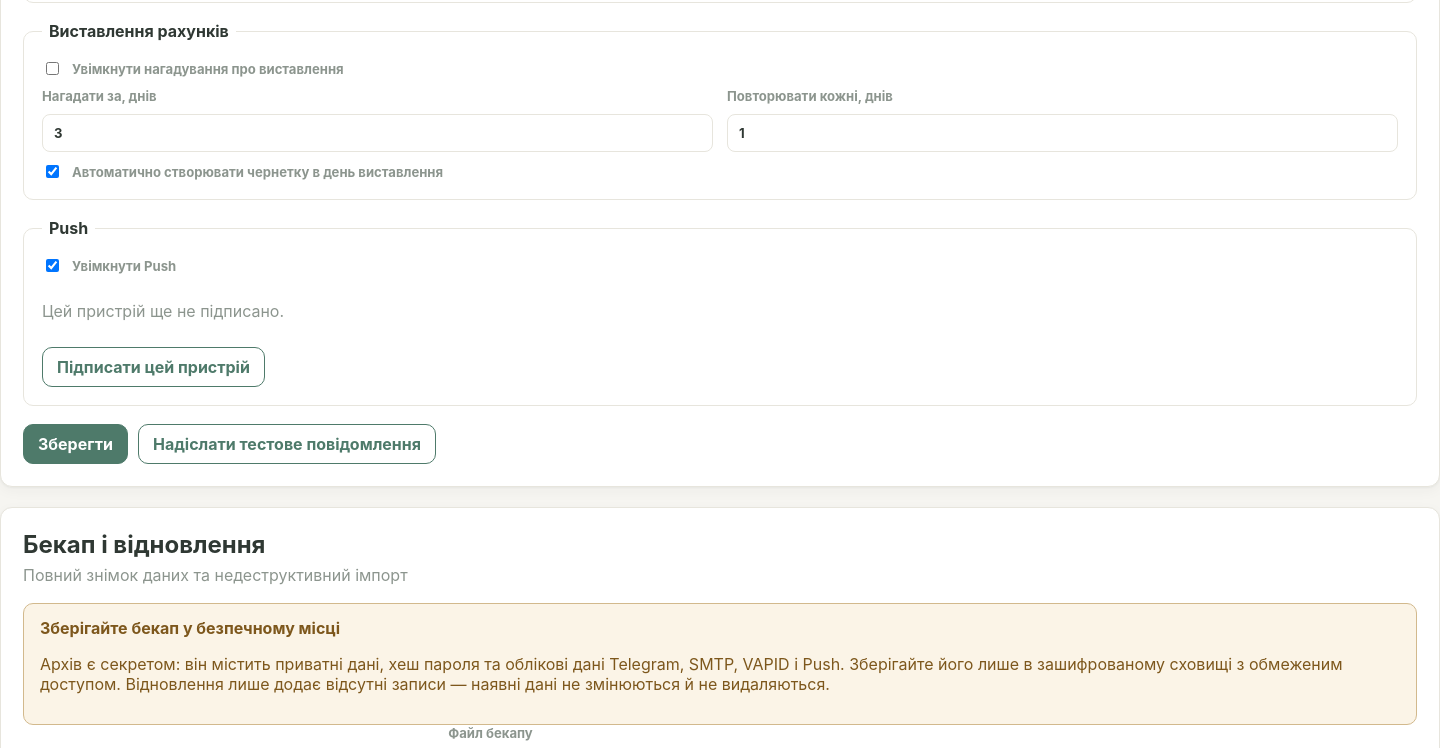
Settings › subscribes and unsubscribes this device from the Push controls
(page scrolled)
Step 1. Click the button "Підписати цей пристрій" → (153, 367), box [42,347,265,387]
(page scrolled)
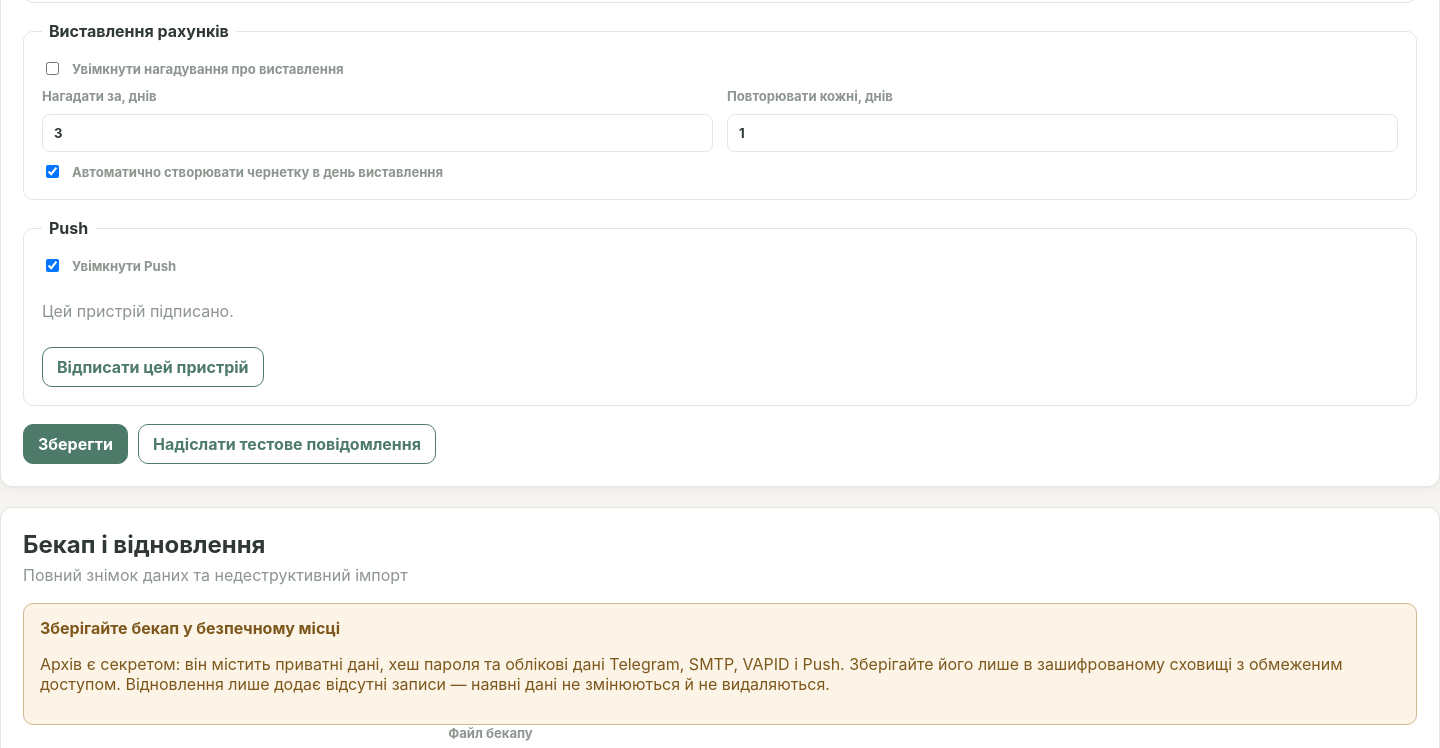
Step 2. Click the button "Відписати цей пристрій" → (153, 367), box [42,347,264,387]
(page scrolled)
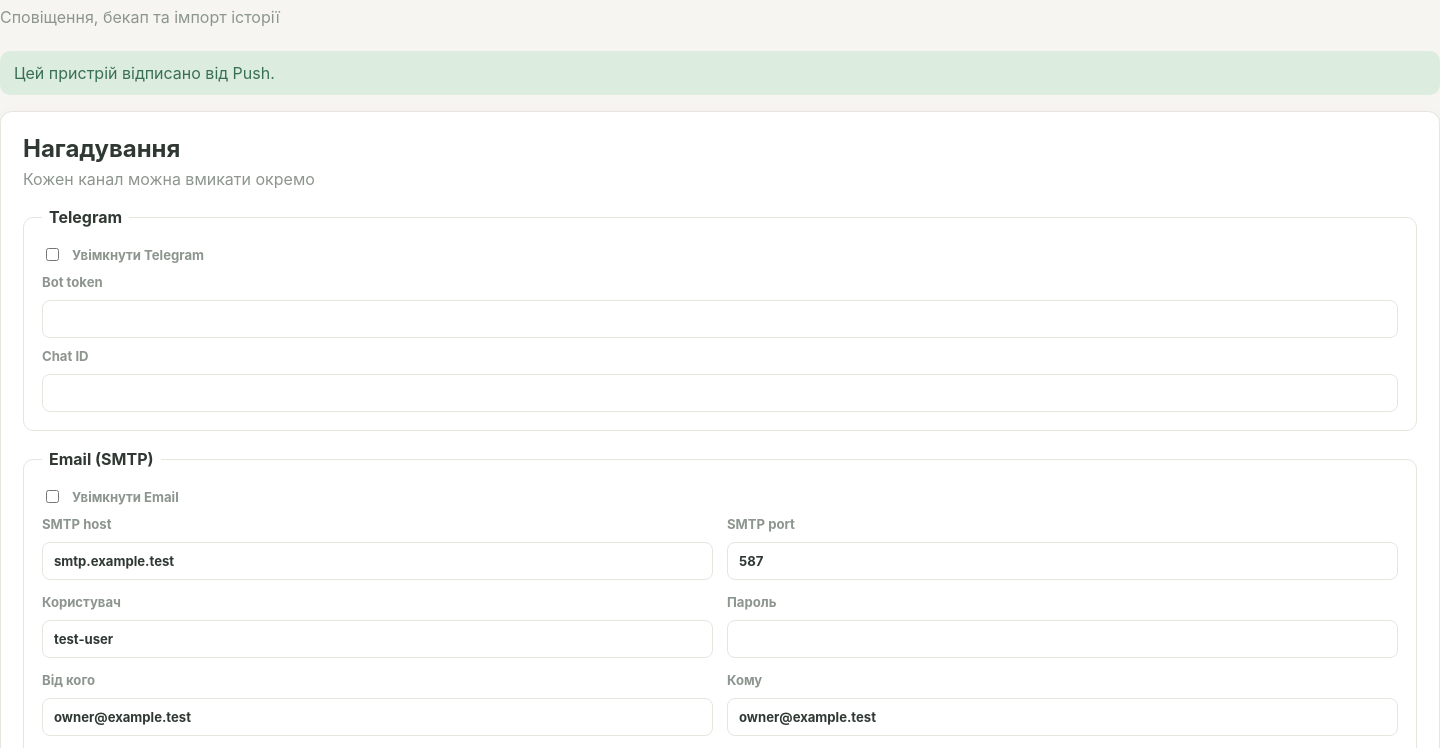
Check: the text "Цей пристрій відписано від Push." is shown, box [0,51,1439,95]
